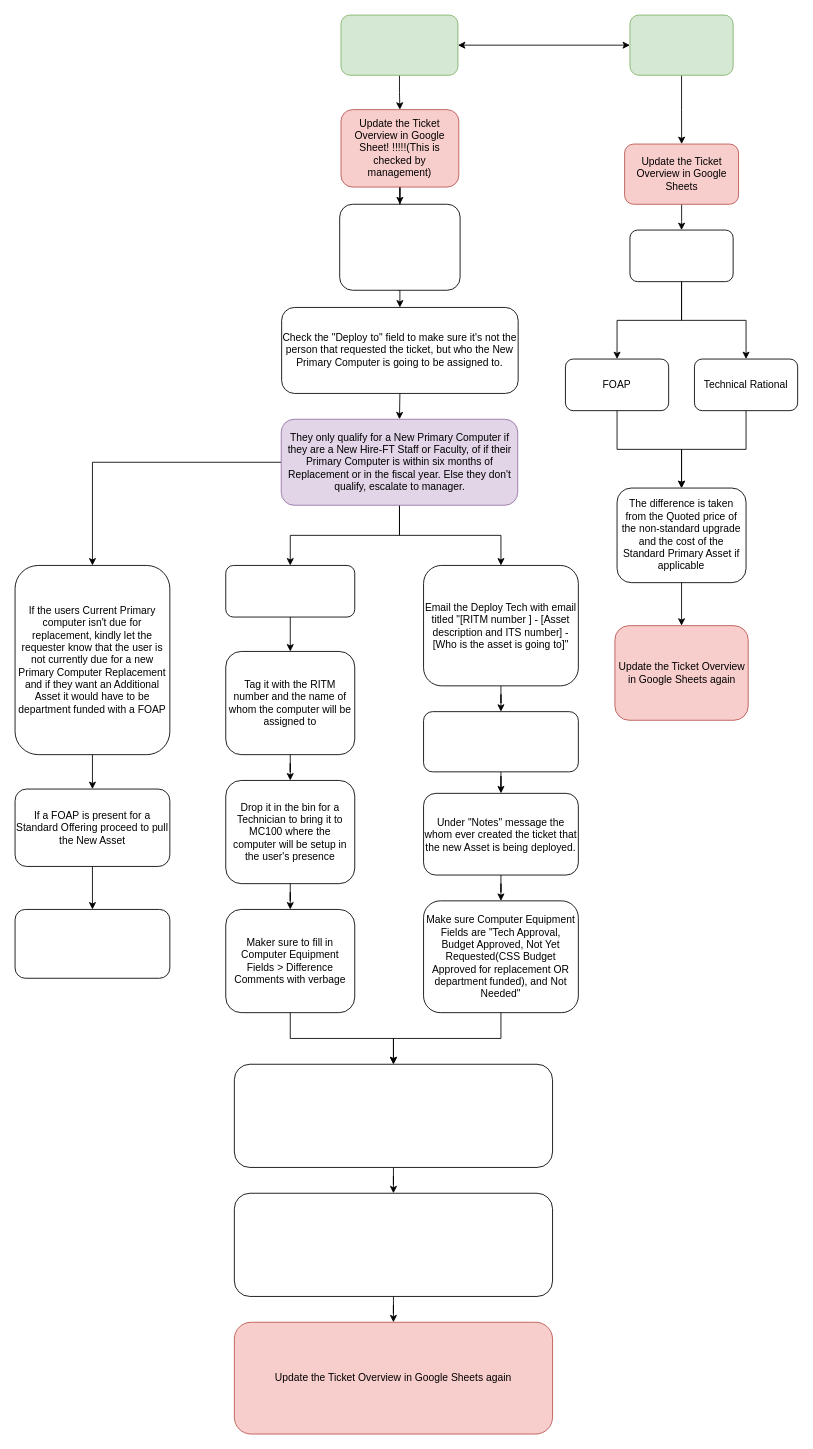
This 813x1449 diagram has some shape labels left out. Each missing label, with the box of its shape:
Check if the ticket was requested on behalf of someone else: (339, 203, 460, 290)
Complete Tasks up to the Deploy Tech: (233, 1063, 553, 1167)
Document the emails in the "Work Notes": (423, 711, 578, 772)
Escalate to get a quote: (629, 229, 733, 282)
If Non-Standard Asset it will be handled by Manager: (14, 909, 170, 978)
If not a Standard Offering: (629, 14, 733, 75)
Pull the Standard Computer: (225, 565, 355, 617)
Standard Offering: (340, 14, 458, 75)
Update the Asset and the CI for the asset: (233, 1192, 553, 1296)
